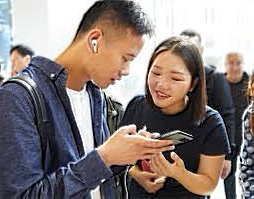earphone: (86, 30, 104, 55)
